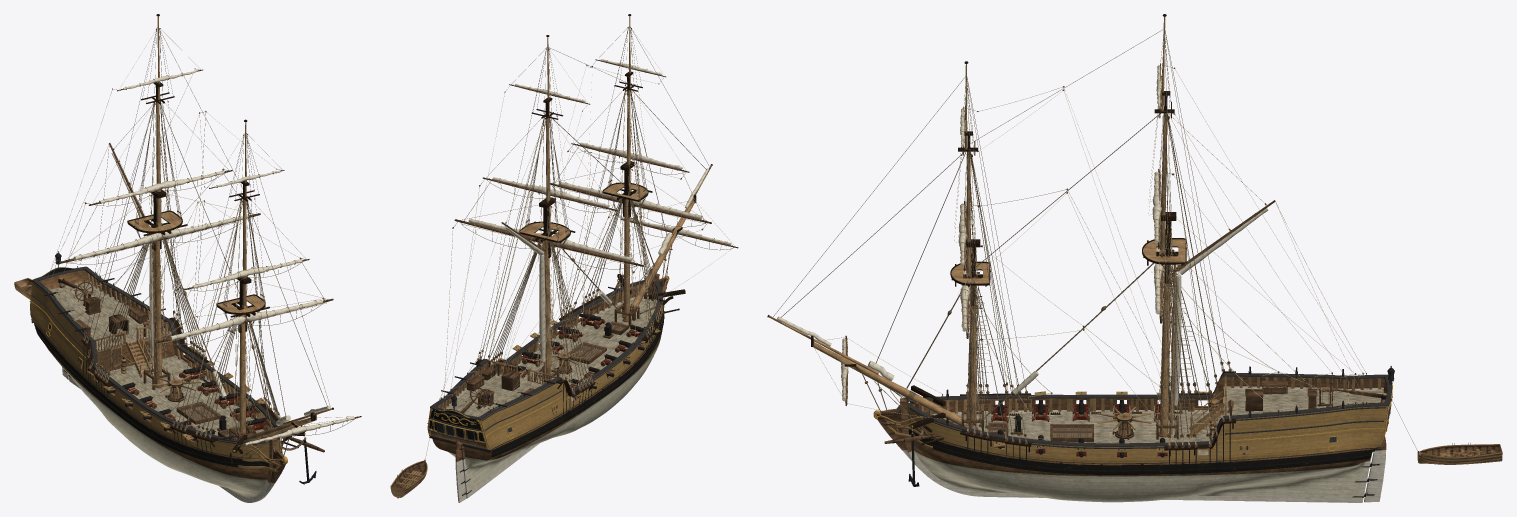
The model's file is snow.glb.
3 views of the same model, side by side, from view 1: azimuth 30°, elevation 25°; view 2: azimuth 150°, elevation 25°; view 3: azimuth 270°, elevation 25° (orthographic). The views are drawn at different scales.
Visible parts, largest first — view 1: hull_static, rigging_static, spars_static, main_course, fore_course, main_topsail, fore_topsail, spritsail, capstan_barrel; view 2: hull_static, rigging_static, spars_static, main_yard, main_course, fore_course, main_topsail, fore_yard, rudder, fore_topsail; view 3: hull_static, rigging_static, spars_static, rudder.
Boxes of the visible parts, bbox=[...] form: hull_static: bbox=[14, 28, 324, 502]; rigging_static: bbox=[44, 27, 330, 481]; spars_static: bbox=[127, 14, 333, 440]; main_course: bbox=[73, 214, 248, 260]; fore_course: bbox=[169, 300, 322, 340]; main_topsail: bbox=[99, 171, 224, 203]; fore_topsail: bbox=[192, 259, 302, 288]; spritsail: bbox=[245, 416, 354, 445]; capstan_barrel: bbox=[150, 373, 201, 398]; hull_static: bbox=[390, 27, 703, 498]; rigging_static: bbox=[425, 27, 709, 458]; spars_static: bbox=[519, 14, 712, 383]; main_yard: bbox=[454, 219, 643, 266]; main_course: bbox=[468, 218, 632, 263]; fore_course: bbox=[558, 182, 702, 221]; main_topsail: bbox=[492, 177, 609, 208]; fore_yard: bbox=[550, 183, 711, 223]; rudder: bbox=[455, 440, 466, 502]; fore_topsail: bbox=[580, 142, 682, 170]; hull_static: bbox=[873, 31, 1502, 502]; rigging_static: bbox=[773, 29, 1417, 451]; spars_static: bbox=[767, 14, 1186, 437]; rudder: bbox=[1364, 436, 1386, 502].
Size of what is drawn, in the model's own units: 15.82 by 32.36 by 44.22.
33 materials, 33 textured.
